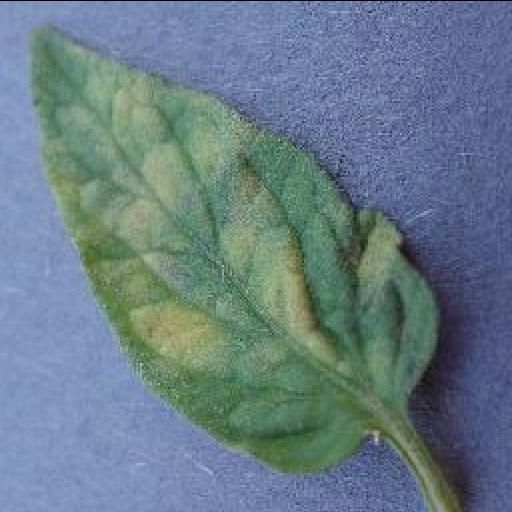disease_tomato: (28, 25, 440, 470)
